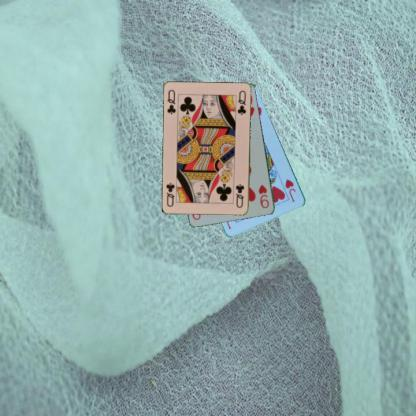9h: (256, 182, 270, 210)
Jh: (283, 176, 297, 204)
Qc: (165, 87, 177, 116), (234, 182, 245, 209)
